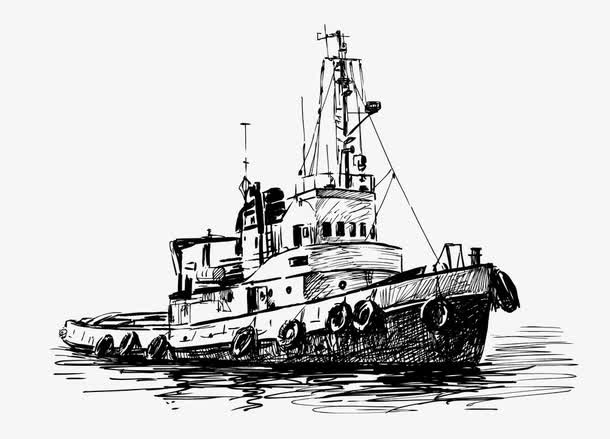otherboat: (47, 46, 512, 372)
